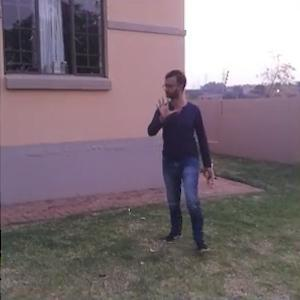follow_hand: (152, 91, 179, 120)
